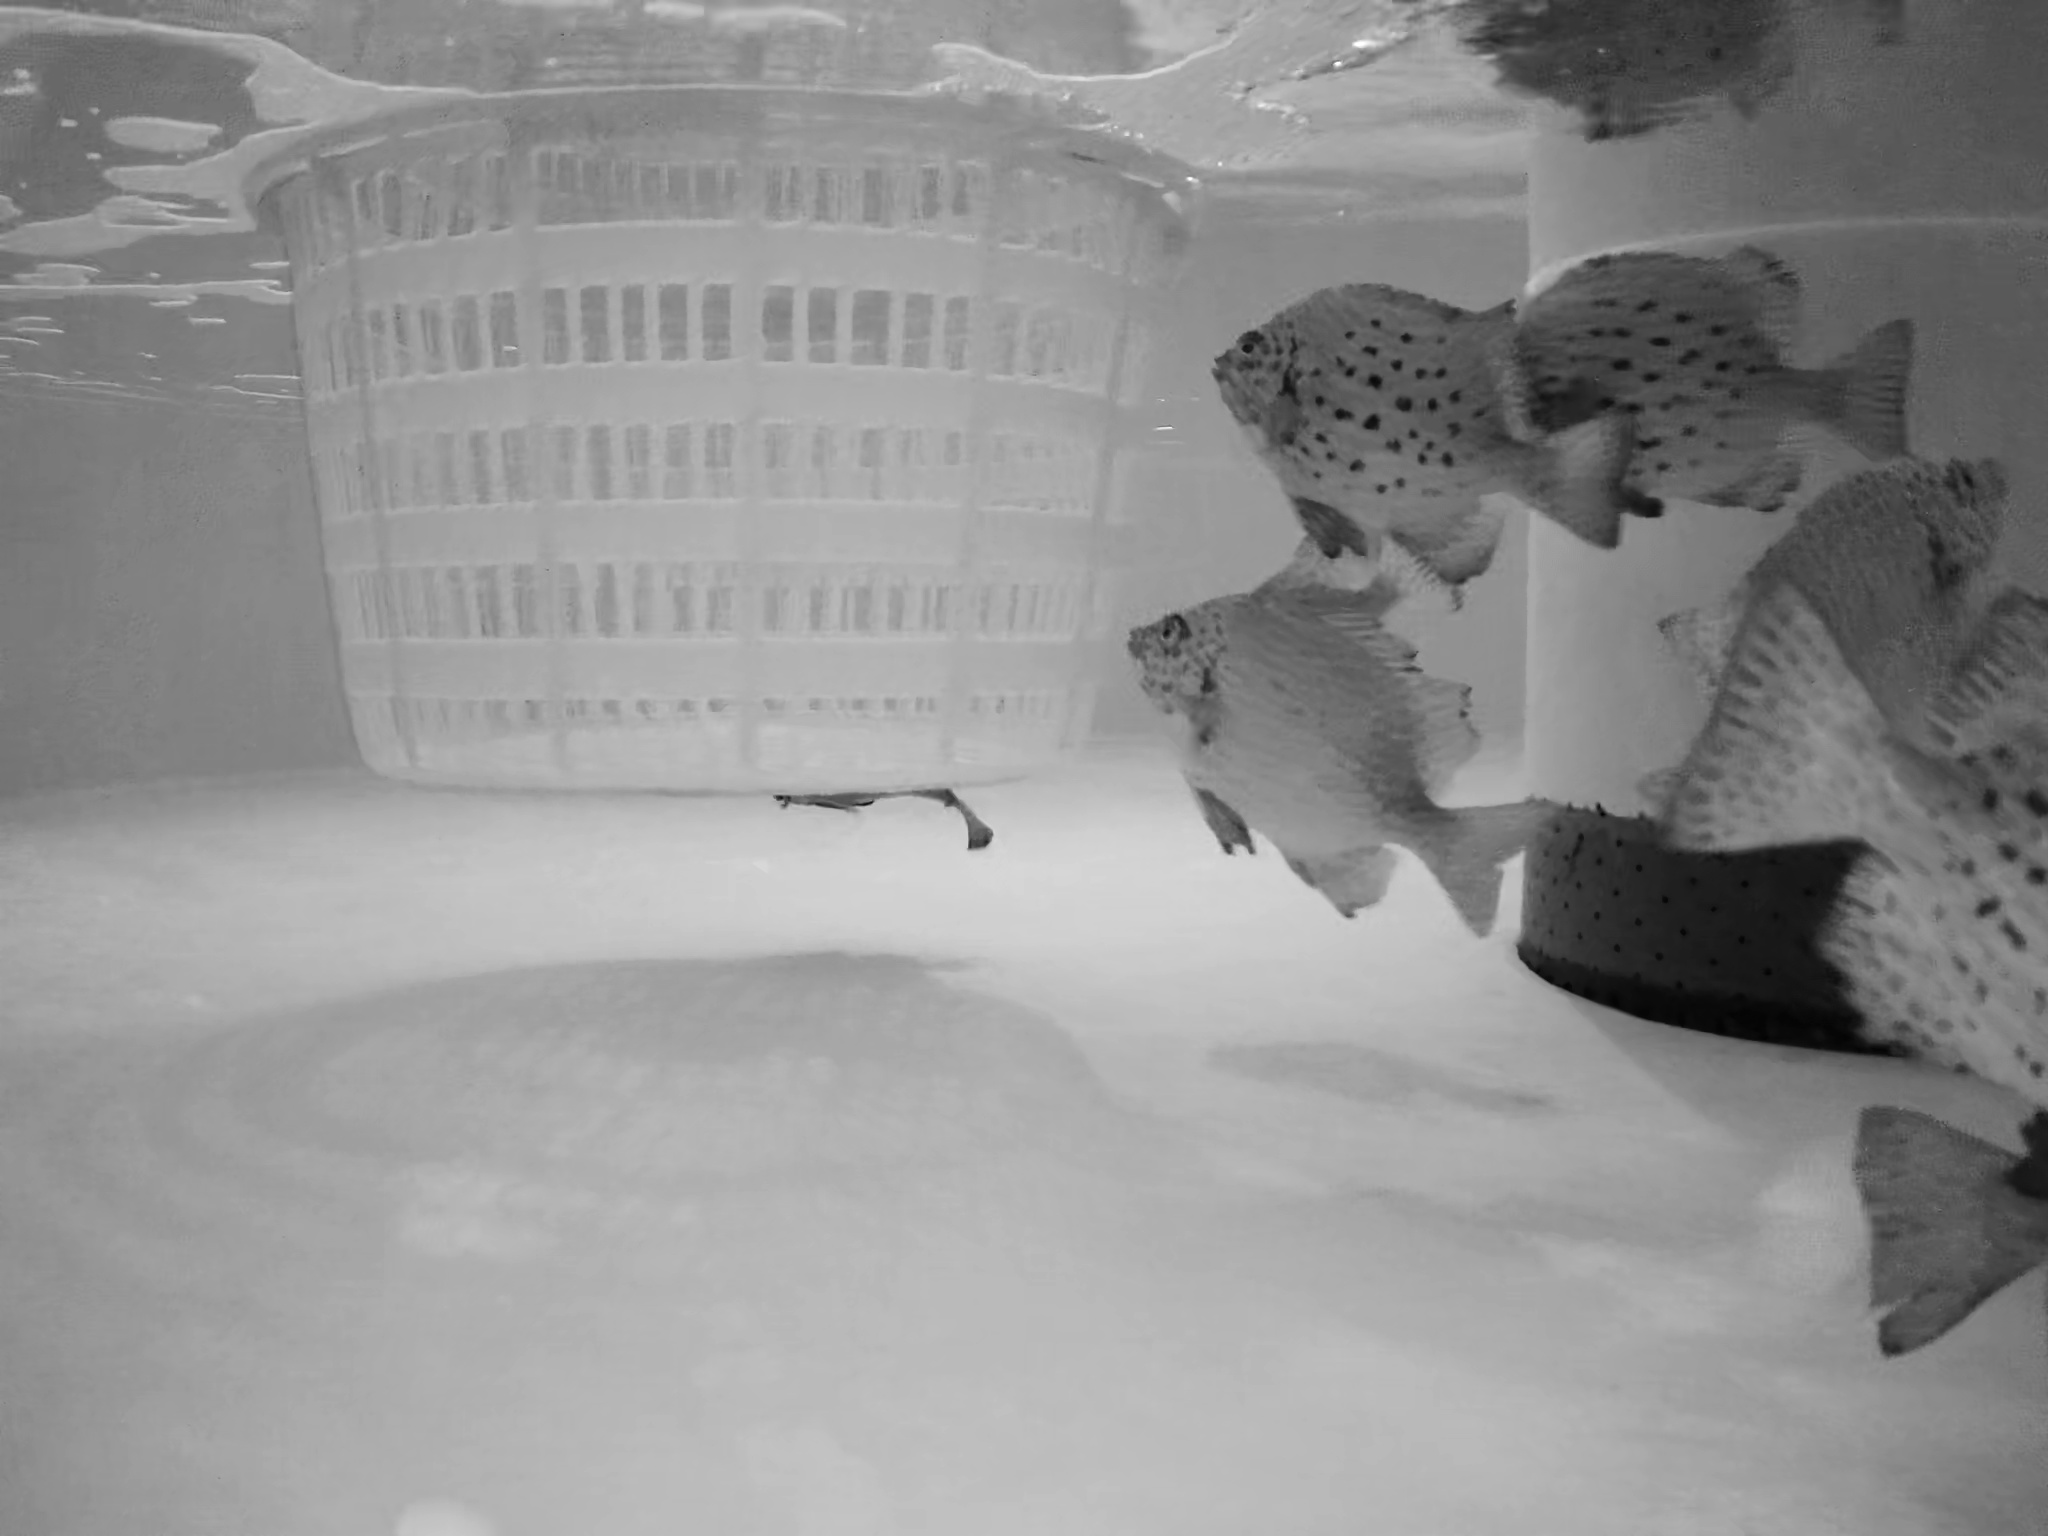fish: (1648, 576, 2048, 1086), (1114, 574, 1558, 926), (1190, 274, 1638, 578), (1498, 237, 1917, 510), (1645, 461, 1995, 737), (742, 641, 990, 865), (1850, 1078, 2048, 1334), (1927, 591, 2048, 757)
